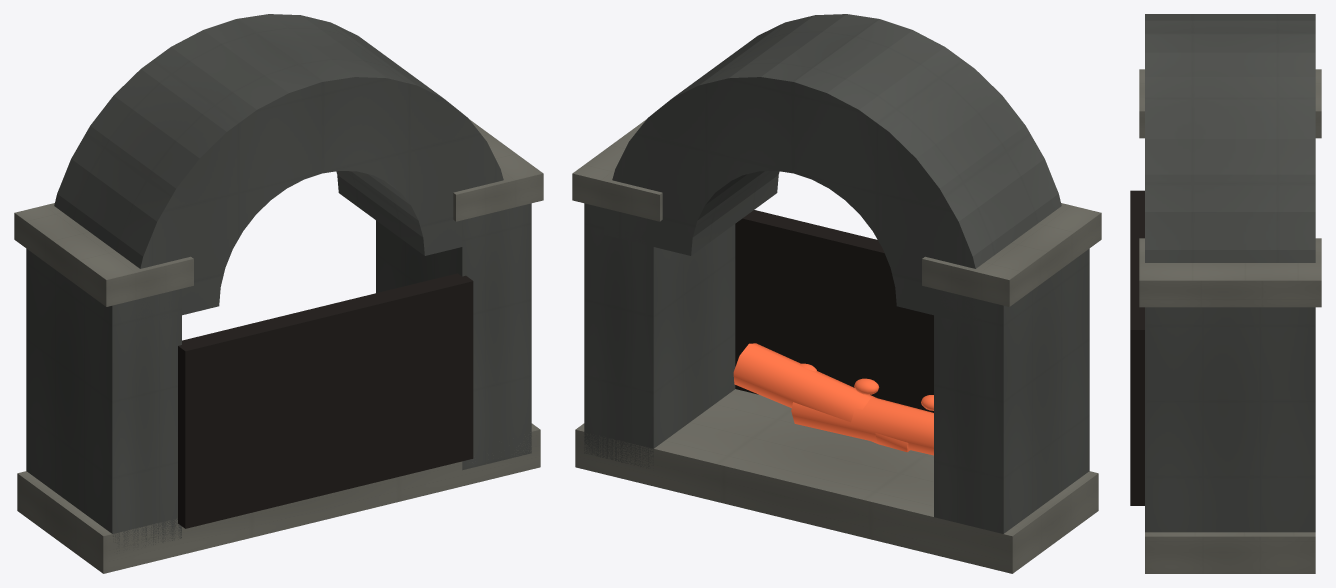
Rendered from sk-fireplace.glb.
The picture shows the model from 3 angles, left to right: view 1: azimuth 30°, elevation 25°; view 2: azimuth 150°, elevation 25°; view 3: azimuth 270°, elevation 25°; orthographic projection.
Parts seen in each view (by area): view 1: interior:fireplace-static-fireplace-stone, fireplace-opening, interior:fireplace-static-fireplace-trim; view 2: interior:fireplace-static-fireplace-stone, interior:fireplace-static-fireplace-trim, fireplace-opening, interior:fireplace-static-fireplace-embers; view 3: interior:fireplace-static-fireplace-stone, interior:fireplace-static-fireplace-trim, fireplace-opening.
Boxes of the visible parts, x1=… form: interior:fireplace-static-fireplace-stone: x1=26, y1=14, x2=531, y2=551; fireplace-opening: x1=178, y1=273, x2=473, y2=528; interior:fireplace-static-fireplace-trim: x1=14, y1=119, x2=543, y2=573; interior:fireplace-static-fireplace-stone: x1=584, y1=14, x2=1089, y2=533; interior:fireplace-static-fireplace-trim: x1=572, y1=119, x2=1101, y2=573; fireplace-opening: x1=735, y1=210, x2=933, y2=412; interior:fireplace-static-fireplace-embers: x1=733, y1=343, x2=933, y2=455; interior:fireplace-static-fireplace-stone: x1=1145, y1=14, x2=1315, y2=532; interior:fireplace-static-fireplace-trim: x1=1139, y1=69, x2=1321, y2=573; fireplace-opening: x1=1130, y1=190, x2=1144, y2=505.
Bounding box in the file's own units: 1.7 × 1.63 × 0.65.
4 materials, 2 textured.
